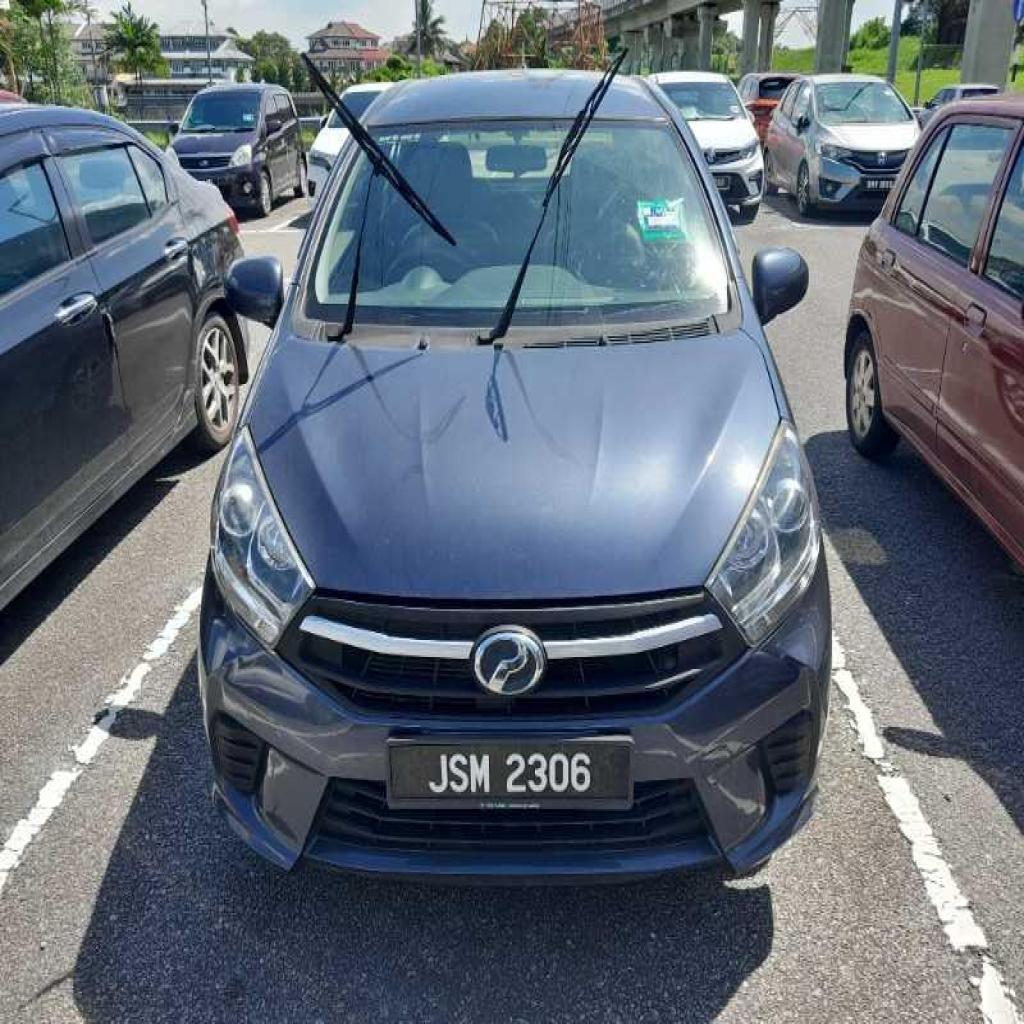car: (197, 72, 829, 877)
car plate: (387, 737, 632, 806)
